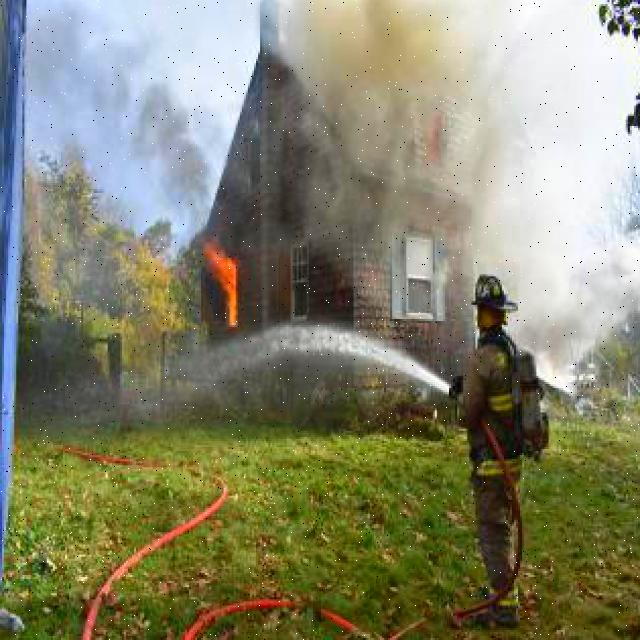fire: (199, 242, 244, 327)
smoke: (270, 0, 450, 247), (30, 14, 214, 228)
